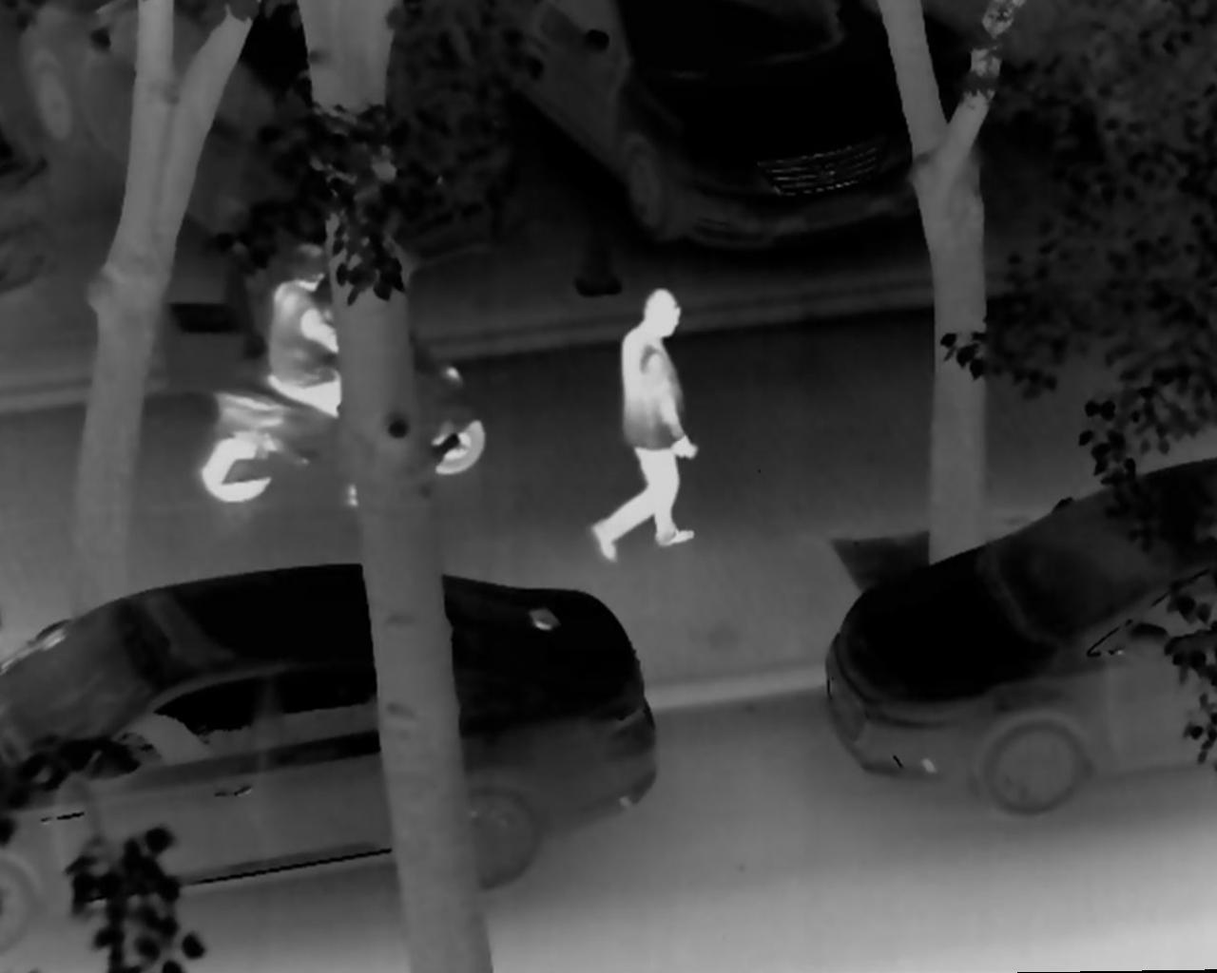person: (254, 229, 394, 514), (576, 273, 710, 566)
